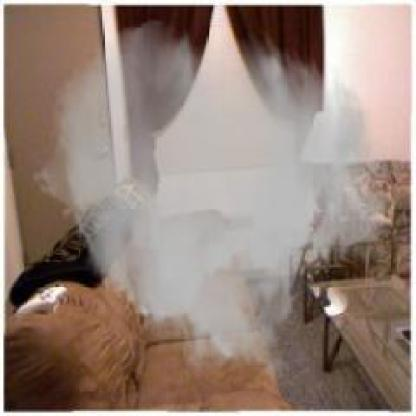Smoke: (31, 17, 392, 386)
